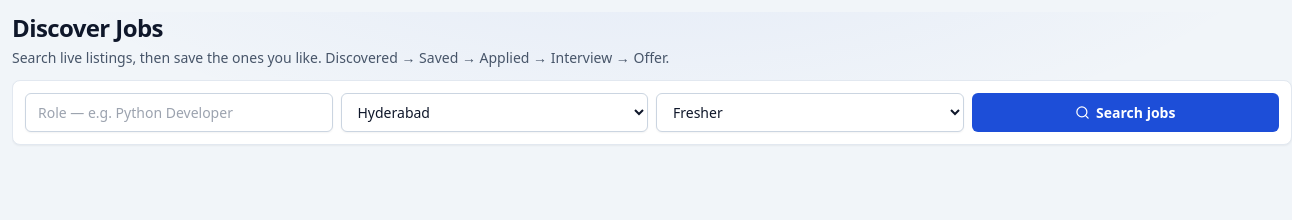
Test: Discover Jobs (native) › shows a clean error without internals when discovery is down
Type "Python" into the field named "Role or keywords" at coordinates (179, 112), box [25,93,332,132]
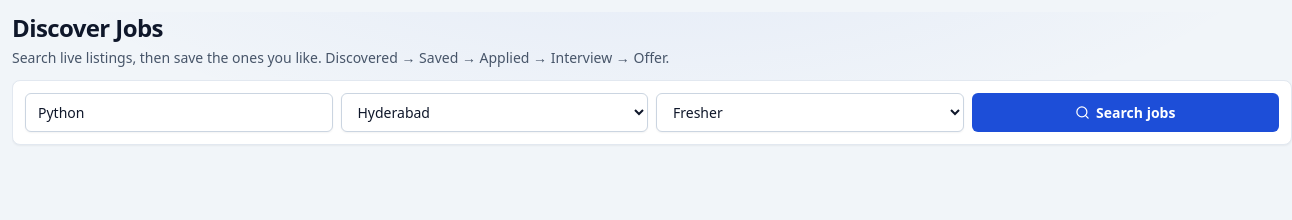
Click the button "Search jobs" at coordinates (1125, 112), box [972,93,1279,132]
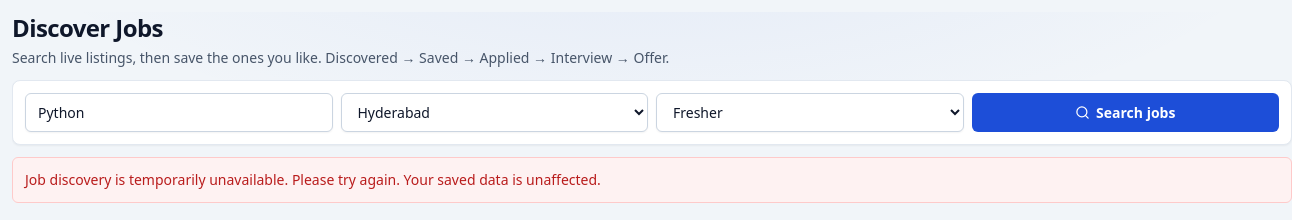
Expected: the message shows "temporarily unavailable", [25,170,400,189]
